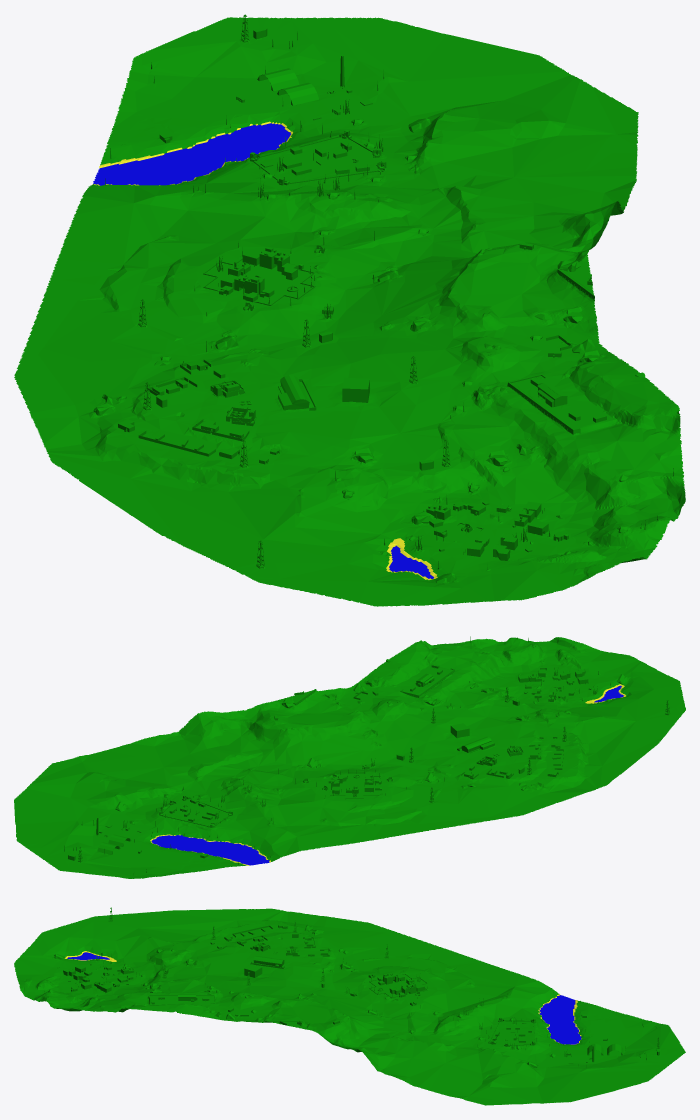
The model's file is preopt.obj.
3 renders of one model, top to bottom at view 1: azimuth 30°, elevation 25°; view 2: azimuth 150°, elevation 25°; view 3: azimuth 270°, elevation 25°, orthographic. The views are drawn at different scales.
Parts seen in each view (by area): view 1: ground, deepwater, water; view 2: ground, deepwater, water; view 3: ground, deepwater, water.
Boxes of the visible parts, x1,y1,x2,y2 form: ground: [14, 14, 685, 606]; deepwater: [93, 123, 433, 578]; water: [92, 121, 437, 579]; ground: [14, 636, 685, 878]; deepwater: [151, 685, 623, 865]; water: [150, 684, 625, 865]; ground: [14, 907, 685, 1105]; deepwater: [67, 952, 581, 1044]; water: [64, 951, 581, 1044].
Bounding box in the file's own units: 806 × 54.32 × 1163.
